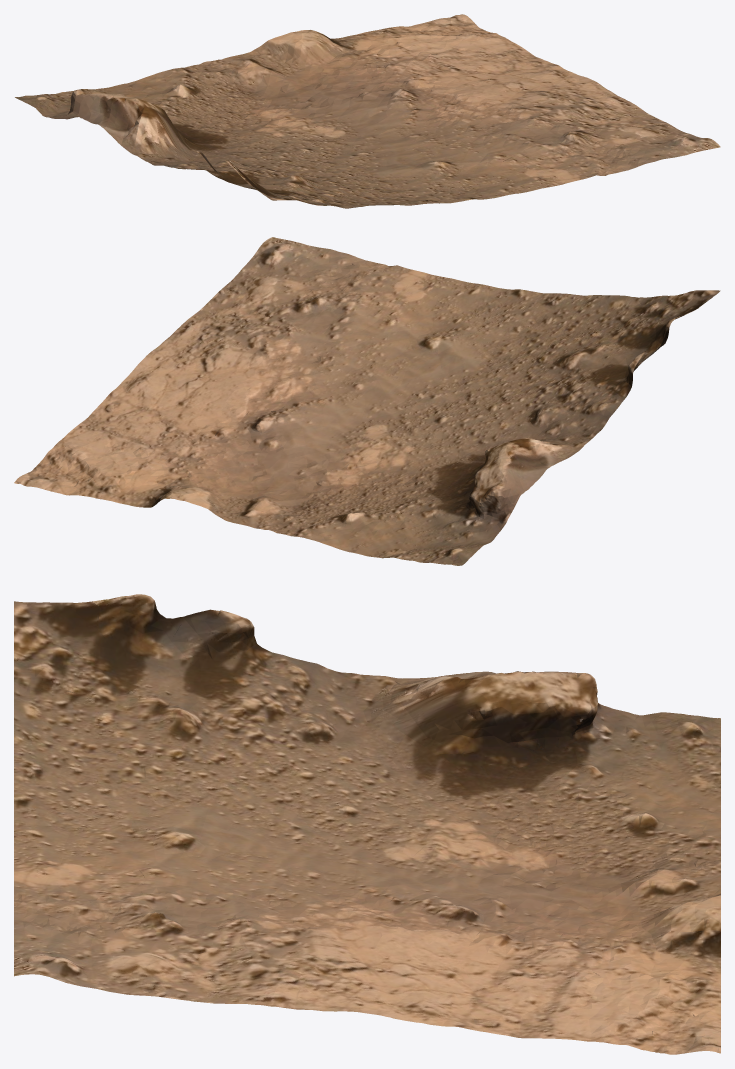
3 views of the same model, one above another, from view 1: azimuth 30°, elevation 25°; view 2: azimuth 150°, elevation 25°; view 3: azimuth 270°, elevation 25° (orthographic). The views are drawn at different scales.
Size of the model in its own units: 1.04 by 0.2638 by 1.04.
2 materials, 2 textured.
